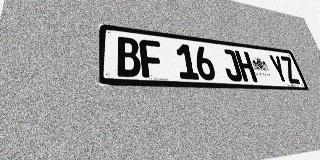1: (174, 43, 199, 80)
6: (192, 45, 217, 80)
B: (116, 36, 142, 77)
F: (139, 39, 164, 78)
H: (234, 50, 258, 82)
J: (220, 49, 243, 82)
Y: (268, 54, 290, 83)
Z: (279, 56, 301, 84)
